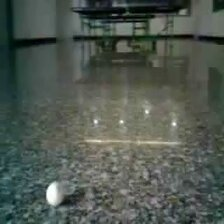w: (45, 181, 66, 205)
